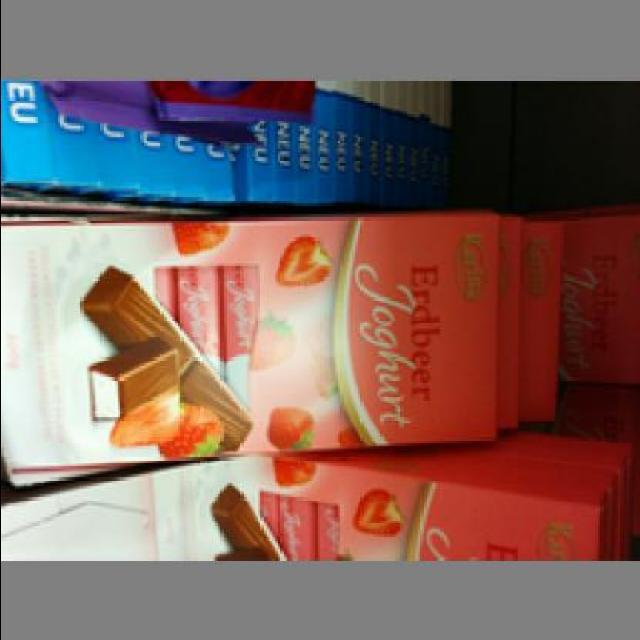Chocolate bar: (6, 206, 506, 483), (148, 440, 610, 557)
